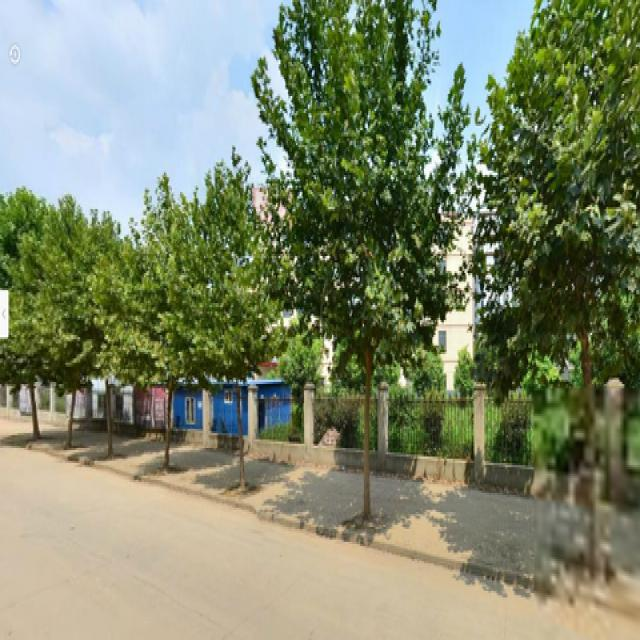meta: (297, 28, 411, 533), (196, 200, 263, 502), (139, 220, 180, 458), (86, 250, 126, 450)
